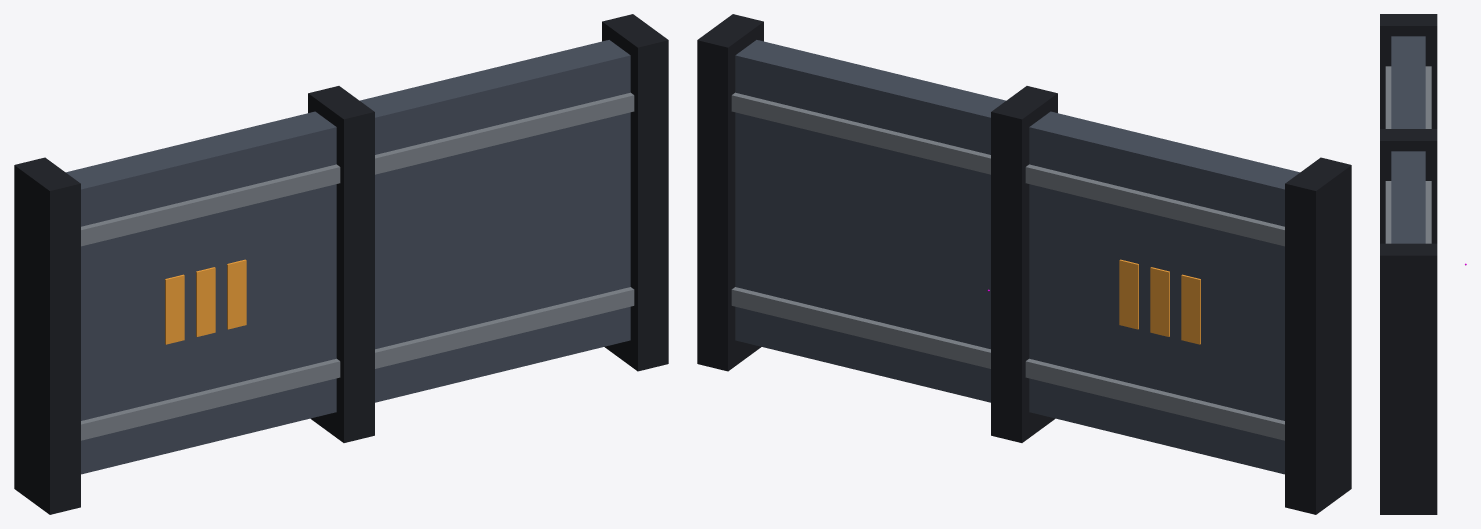
Rendered from Screen.glb.
3 views of the same model, side by side, from view 1: azimuth 30°, elevation 25°; view 2: azimuth 150°, elevation 25°; view 3: azimuth 270°, elevation 25° (orthographic). The views are drawn at different scales.
Visible parts, largest first — view 1: Steel, Dark, Bare, Accent; view 2: Steel, Dark, Bare, Accent; view 3: Dark, Steel, Bare.
Boxes of the visible parts, box(x1,y1,x2,y2) form: Steel: box(66, 40, 630, 474); Dark: box(14, 14, 668, 514); Bare: box(81, 92, 634, 440); Accent: box(165, 259, 246, 344); Steel: box(735, 40, 1299, 474); Dark: box(697, 14, 1351, 514); Bare: box(731, 92, 1284, 440); Accent: box(1119, 259, 1200, 344); Dark: box(1380, 14, 1437, 514); Steel: box(1391, 36, 1425, 243); Bare: box(1385, 66, 1431, 243).
Size of the model in its own units: 10 by 5 by 1.52.
